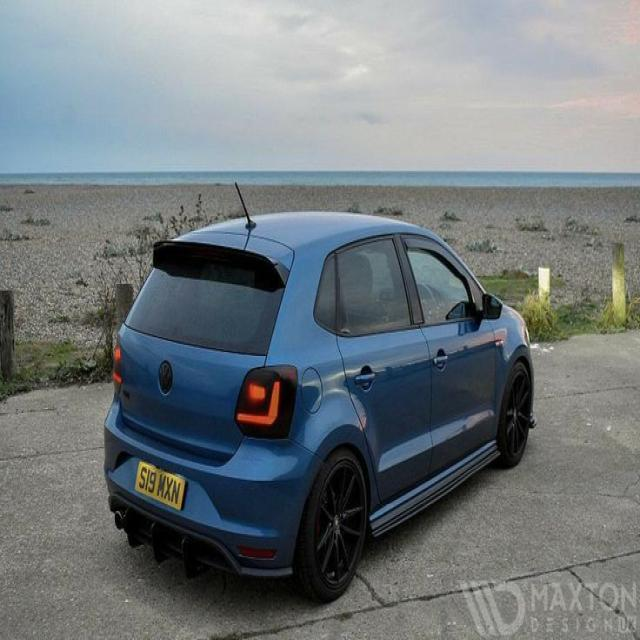Placas: (132, 460, 187, 515)
